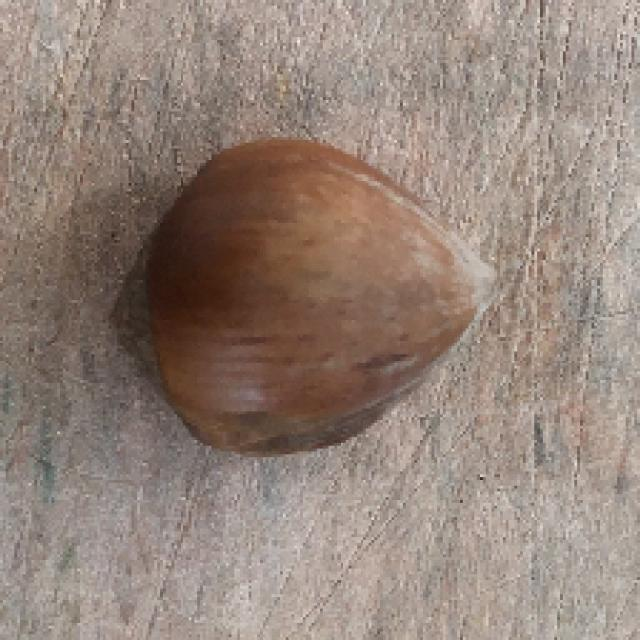damagedHazelnut: (104, 123, 516, 480)
